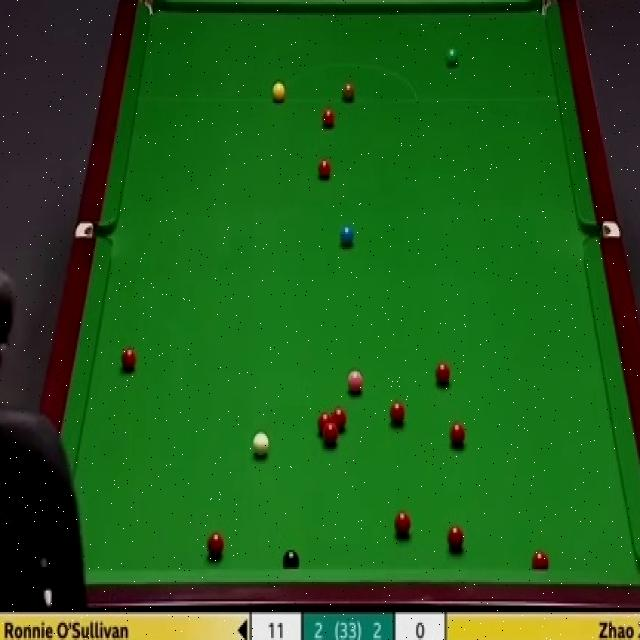black-ball: (282, 550, 300, 570)
blue-ball: (339, 223, 354, 249)
brown-ball: (340, 80, 355, 104)
green-ball: (443, 48, 460, 68)
pink-ball: (347, 366, 364, 394)
red-ball: (434, 360, 452, 390), (119, 346, 138, 374), (446, 525, 464, 554), (207, 531, 224, 559), (394, 510, 411, 538), (449, 419, 465, 447), (389, 400, 405, 428), (316, 156, 333, 180), (321, 105, 336, 132), (332, 408, 347, 434), (532, 550, 549, 572), (318, 412, 332, 434), (324, 426, 338, 446)
white-ball: (251, 429, 271, 464)
yellow-ball: (271, 80, 286, 102)
